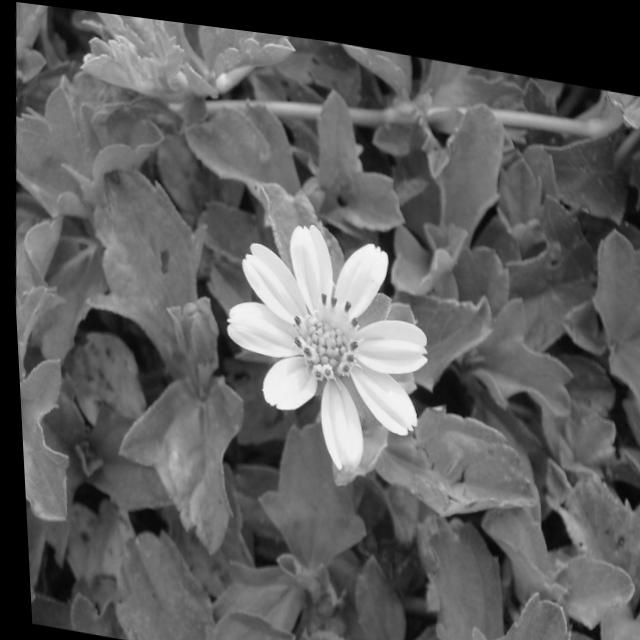Flower: (212, 197, 445, 482)
